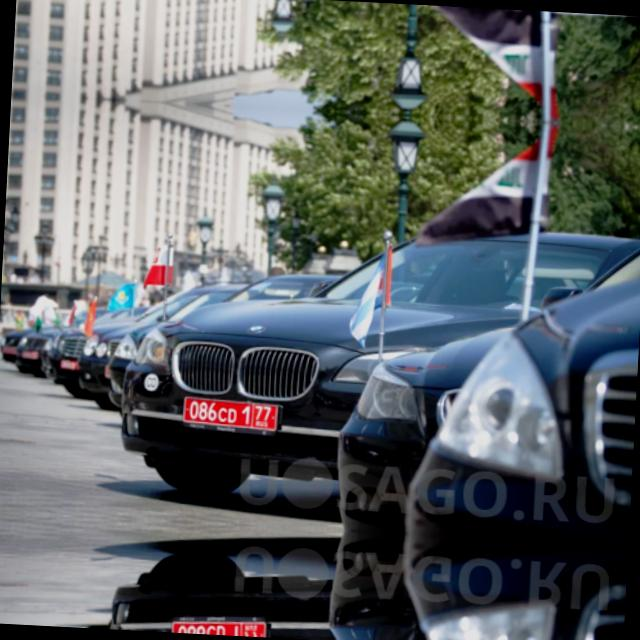diplomatic: (181, 392, 283, 438), (170, 610, 272, 638)
